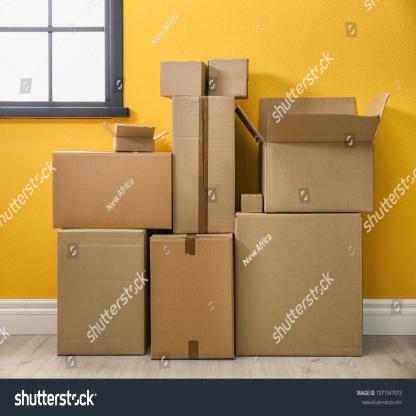box: (235, 212, 364, 356), (57, 230, 145, 355), (150, 235, 234, 360), (52, 151, 172, 230), (173, 96, 235, 234), (265, 143, 374, 212), (210, 59, 249, 96), (160, 62, 201, 97), (116, 137, 153, 152), (241, 194, 263, 212)
